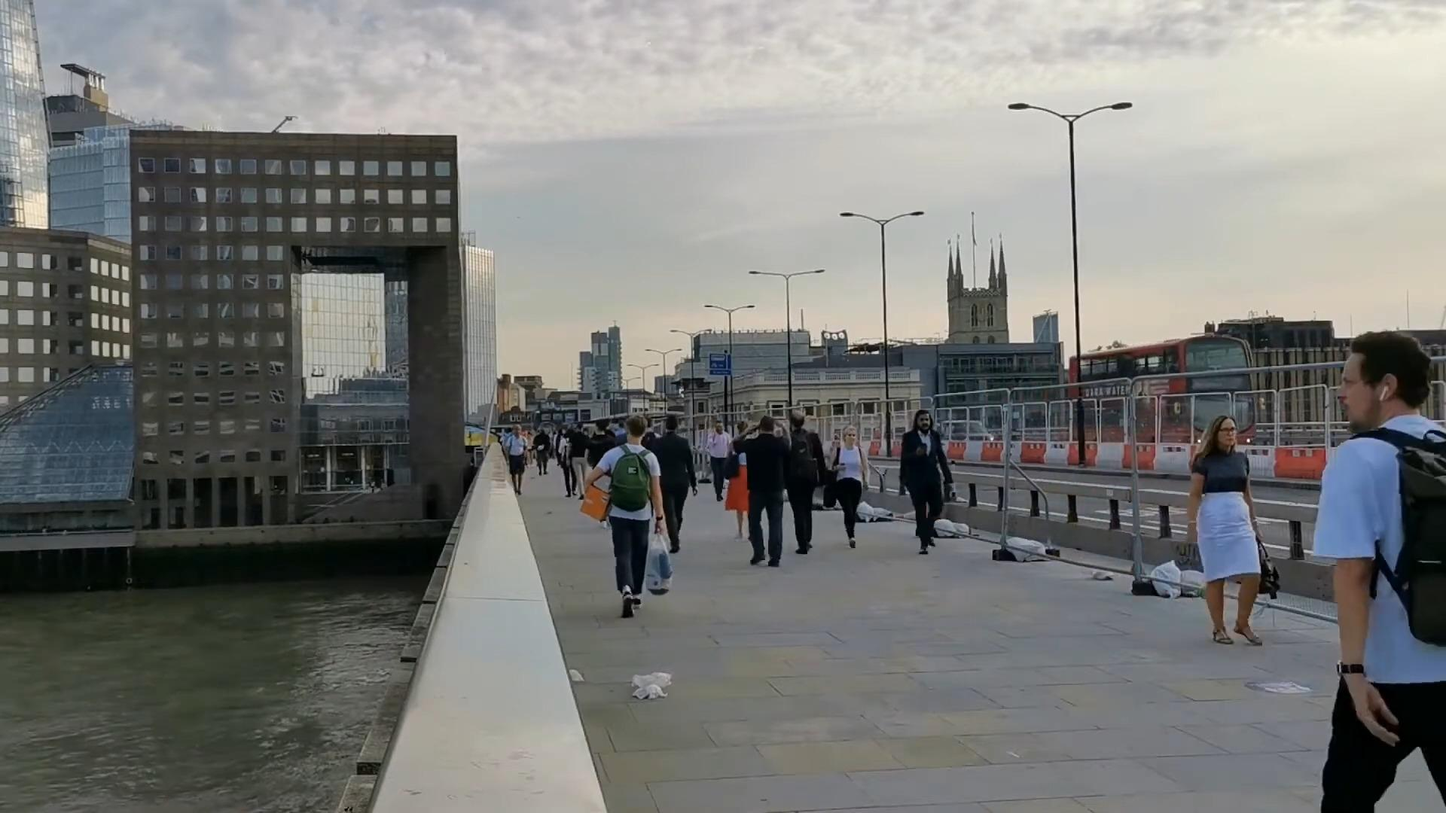no-helmet: (1337, 330, 1432, 434), (1202, 415, 1239, 447), (625, 415, 648, 440), (913, 409, 933, 432), (759, 415, 775, 434), (790, 410, 805, 430), (842, 426, 857, 445), (595, 418, 609, 434), (665, 416, 678, 431), (737, 420, 748, 435)
